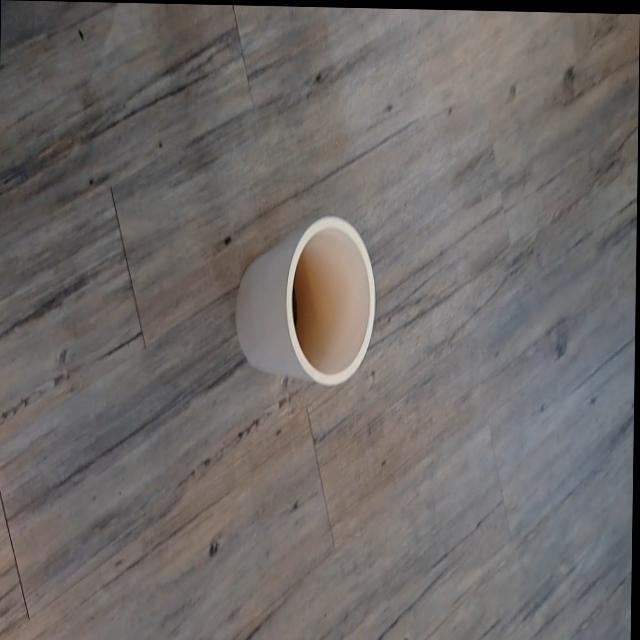CORAL: (222, 183, 404, 423)
